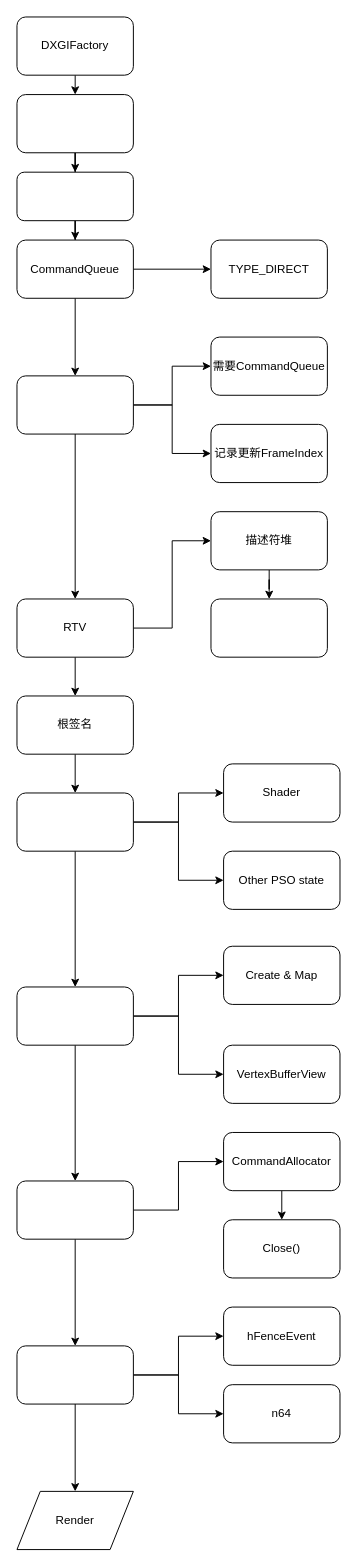
The diagram is 357 pixels wide and 1567 high, and some of its shapes have lost their labels. Each missing label, with the centre of its shape:
"Adapter - 找合适的Device" goes at [74,123].
"CommandList" goes at [74,1209].
"Device" goes at [74,196].
"Fence" goes at [74,1374].
"handle 一一创建Resource" goes at [268,627].
"PSO" goes at [74,821].
"SwapChain" goes at [74,404].
"VertexBuffer" goes at [74,1015].
